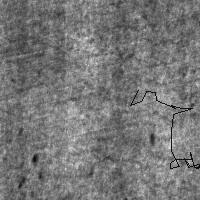crazing: (52, 148, 186, 196), (130, 90, 200, 168)
